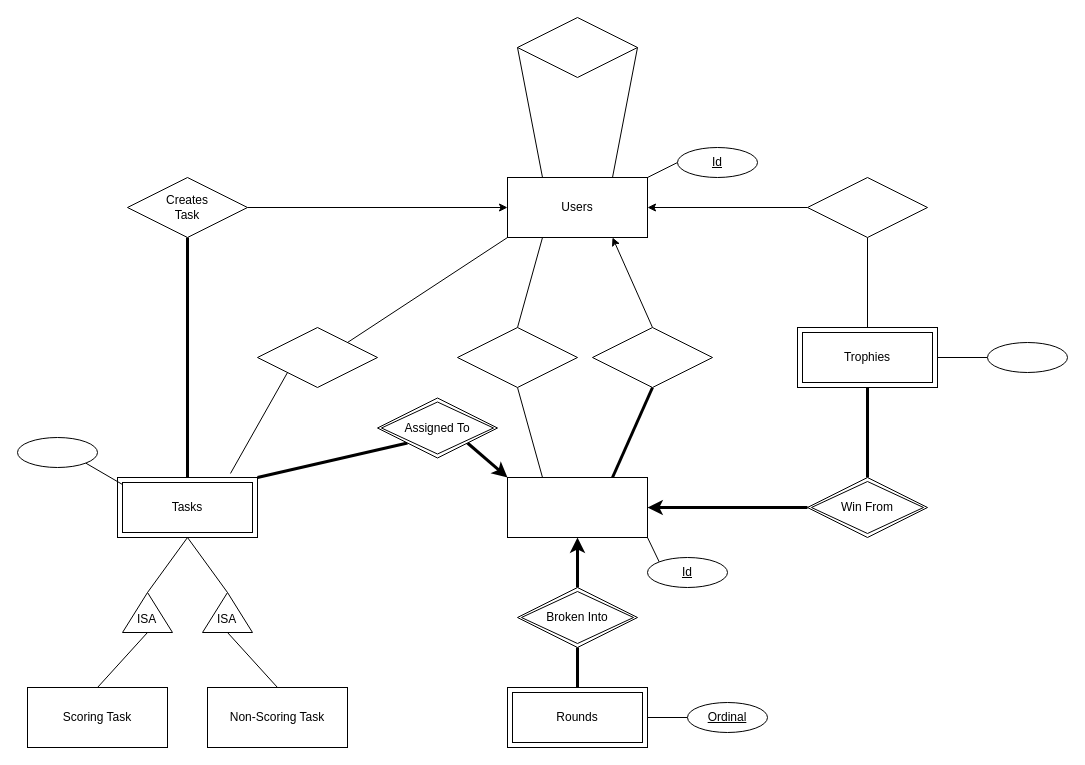
The diagram is 1085 pixels wide and 765 high, and some of its shapes have lost their labels. Here are the shapes that lost their labels. From the top down, the centre of each, then its label:
pixel 577 47: Friends
pixel 867 207: Earn
pixel 317 357: Track Progress
pixel 517 357: Participates In
pixel 652 357: Creates Tournament
pixel 1027 357: Type
pixel 57 452: Name
pixel 577 507: Tournaments
